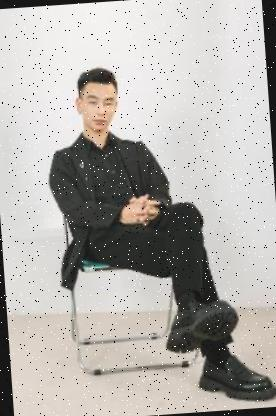person: (35, 48, 276, 416)
